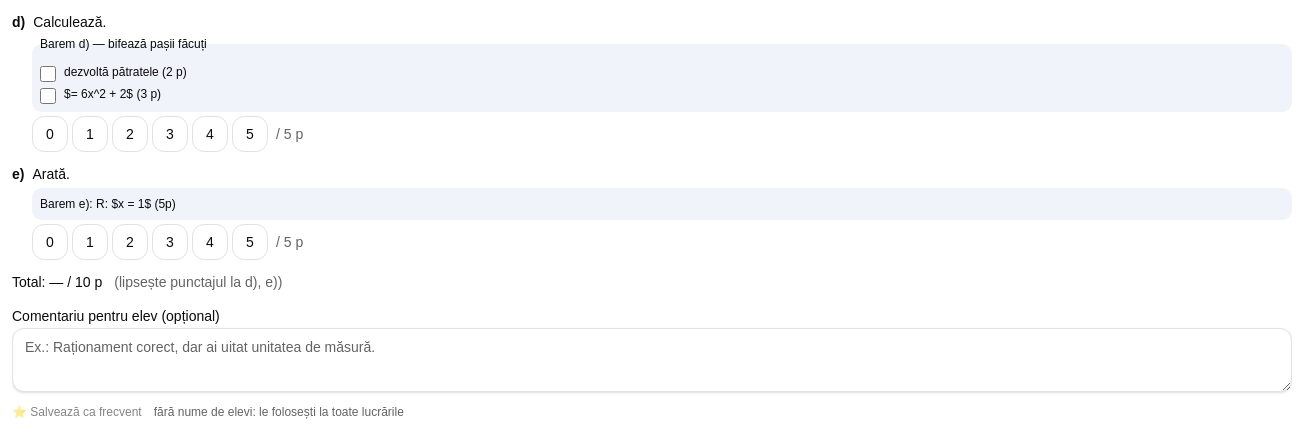
Test: ItemGradeForm: barem steps with their own points › both steps ticked = the full points; unticking one takes only its points off
What coordinates should you click on to do the following:
click the checkbox named "pasul 1"
I would click on:
 (48, 74)
Its box is [40,66,56,82].
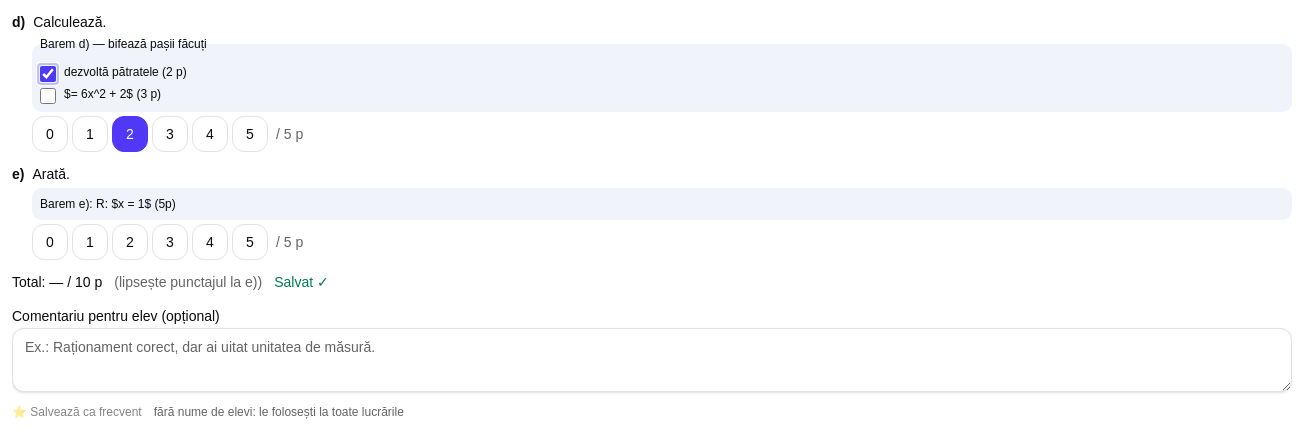
What coordinates should you click on to do the following:
click the checkbox named "pasul 2"
I would click on:
 (48, 96)
Its box is [40,88,56,104].
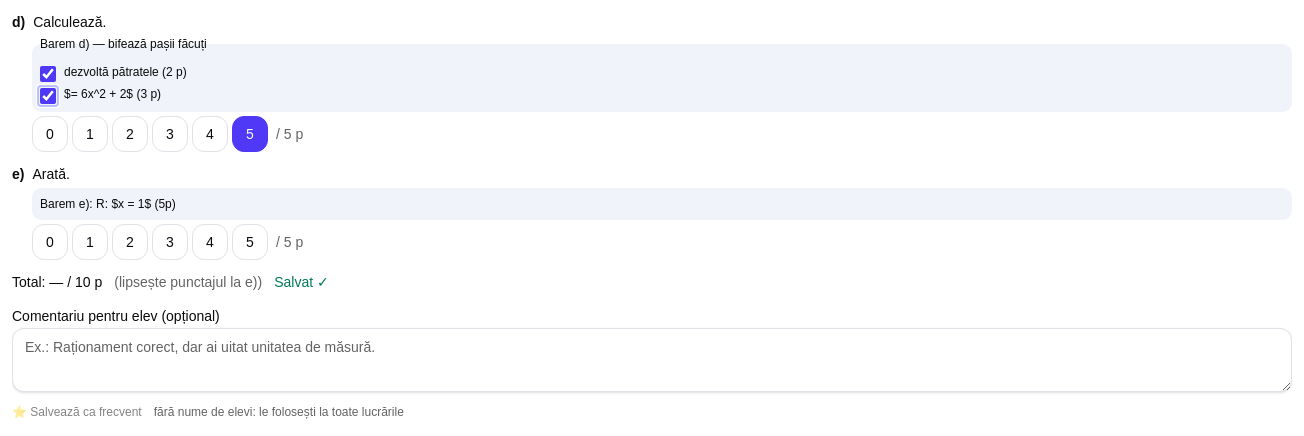
Check: the radio button labelled "5" below "$= 6x^2 + 2$" is checked, box [232,116,268,152]
What coordinates should you click on to do the following:
click the checkbox named "pasul 1"
I would click on:
 (48, 74)
Its box is [40,66,56,82].
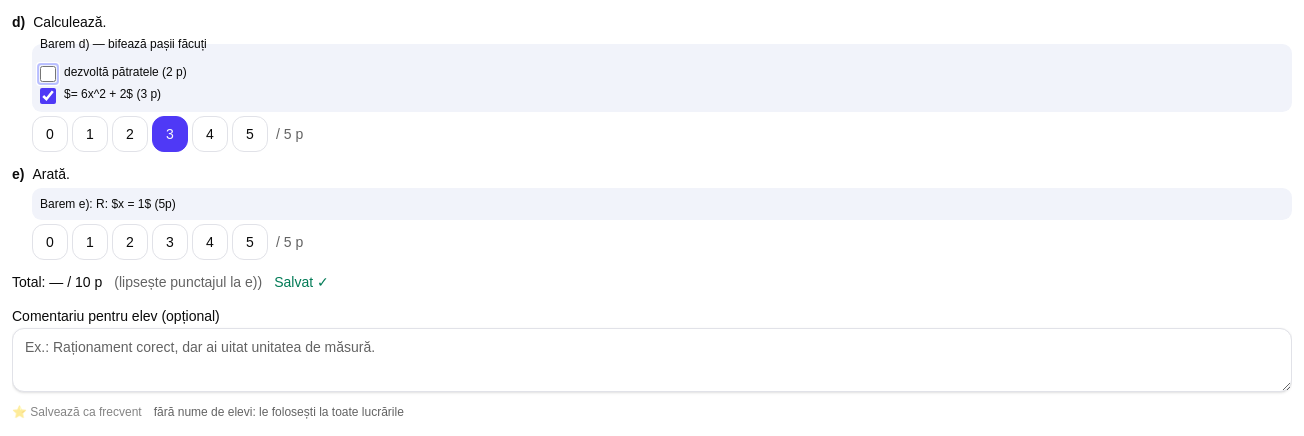
Check: the radio button labelled "3" below "$= 6x^2 + 2$" is checked, box [152,116,188,152]
